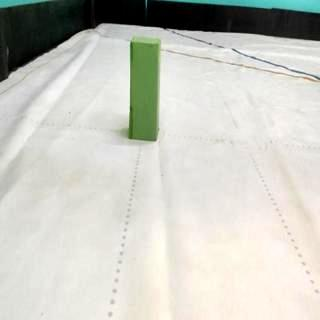greenbox: (126, 31, 164, 146)
